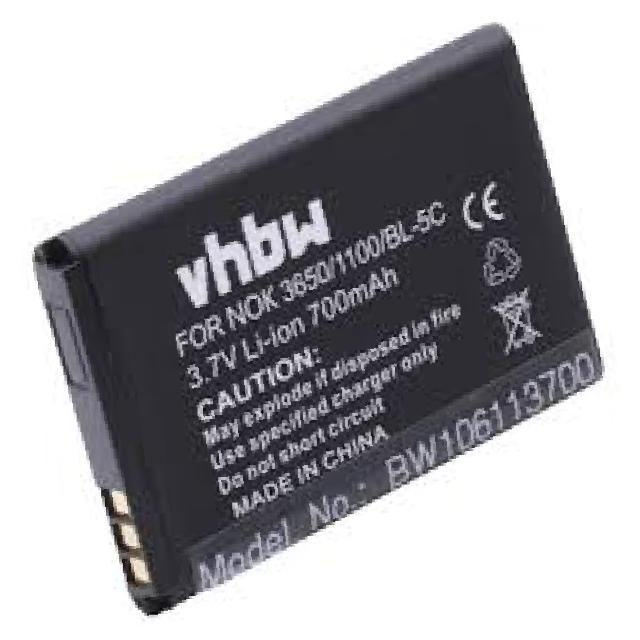Battery: (17, 5, 619, 620)
